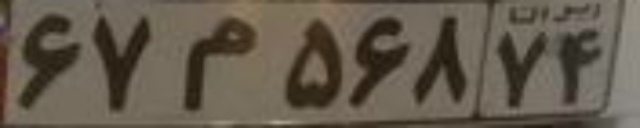4: (555, 28, 604, 104)
5: (278, 18, 341, 108)
6: (18, 12, 82, 110), (350, 15, 408, 108)
7: (92, 13, 158, 111), (492, 30, 549, 107)
8: (415, 14, 468, 104)
mim: (180, 16, 256, 110)
